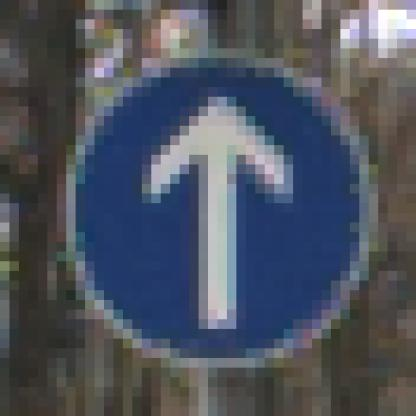AheadOnly: (58, 49, 370, 369)
